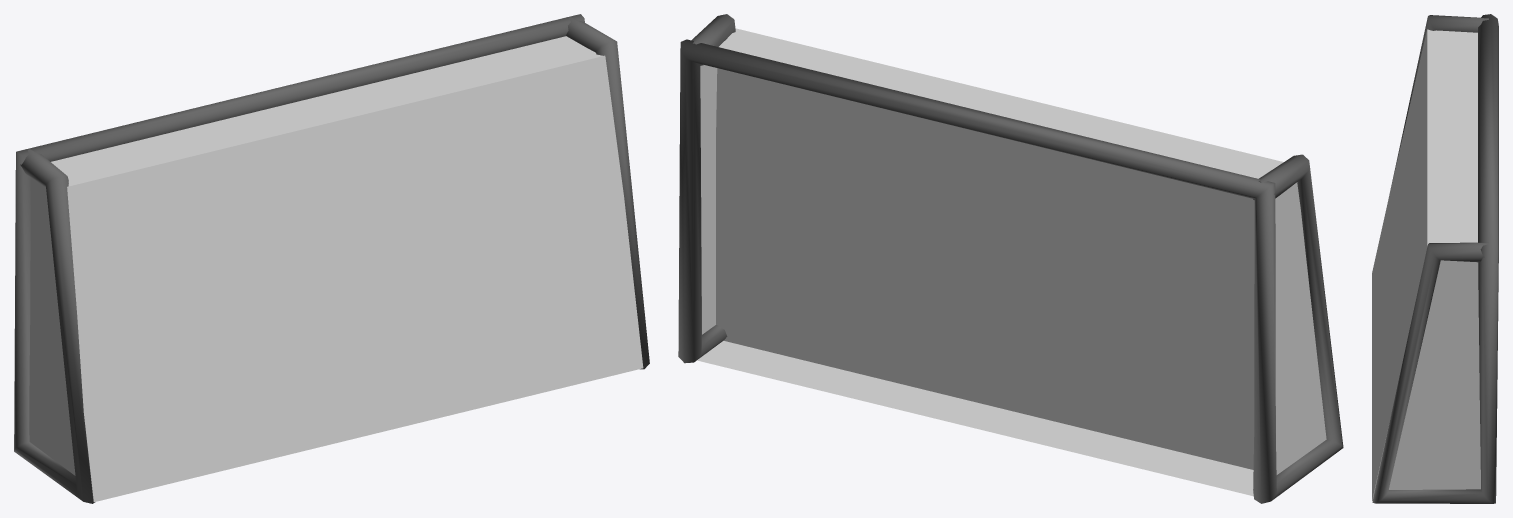
File: Arco 1.fbx
3 views of the same model, side by side, from view 1: azimuth 30°, elevation 25°; view 2: azimuth 150°, elevation 25°; view 3: azimuth 270°, elevation 25° (orthographic). The views are drawn at different scales.
Parts seen in each view (by area): view 1: Cube, BezierCurve; view 2: Cube, BezierCurve; view 3: Cube, BezierCurve.
Boxes of the visible parts, <box> form: Cube: <box>29,36,643,502</box>; BezierCurve: <box>14,14,649,503</box>; Cube: <box>697,28,1326,496</box>; BezierCurve: <box>678,14,1343,503</box>; Cube: <box>1372,29,1480,500</box>; BezierCurve: <box>1372,14,1498,503</box>.
Size of the model in its own units: 208 by 106 by 47.07.
Materials: 1 (1 with a texture image).
